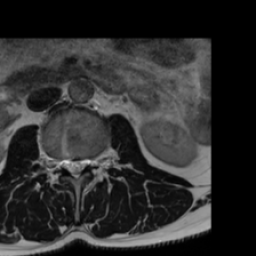CCS_normal: (71, 153, 79, 183)
LFS_normal: (88, 151, 96, 171)
LLS_normal: (79, 152, 88, 177)
RFS_normal: (52, 152, 62, 175)
RLS_normal: (62, 153, 71, 177)
